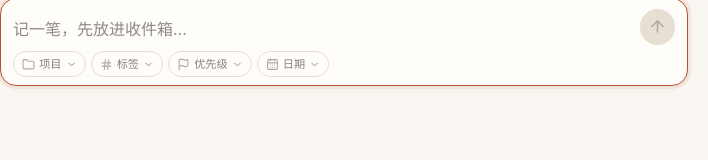
Test: removes an already selected tag from its menu
Type "整理看板 #bug" into the text box labelled "记一笔".
click(321, 29); type("整理看板 #bug")  # box x1=13 y1=13 x2=629 y2=45
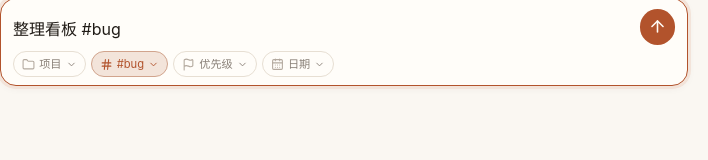
Click the button with aria-label "选择标签".
click(129, 64)  # box x1=90 y1=51 x2=168 y2=77
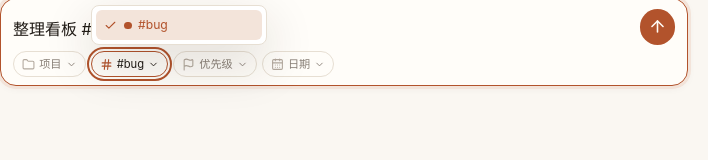
Click the menu item "#bug".
click(178, 25)  # box x1=96 y1=10 x2=262 y2=40
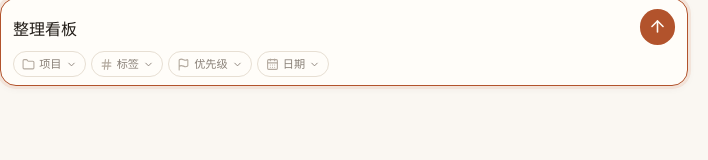
Check: the text box named "记一笔" holds "整理看板", box x1=13 y1=13 x2=629 y2=45
